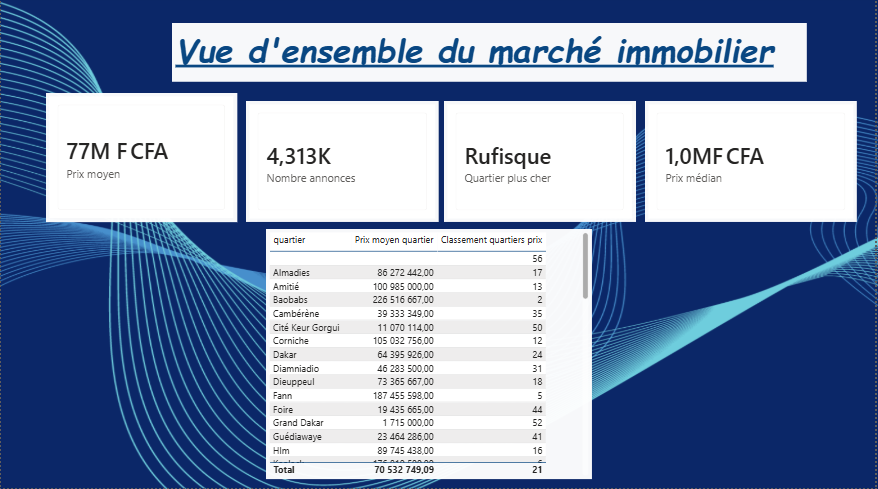

The page's visual inventory and layout, read from the dashboard file:
{"tool":"powerbi","page":{"name":"Vue d'ensemble","canvas":[1280,720],"ordinal":1},"visuals":[{"type":"cardVisual","fields":{"Data":["expat_dakar_pieces_traite.Prix moyen"]},"box":[65.9,142,279.5,188.8],"z":0},{"type":"cardVisual","fields":{"Data":["expat_dakar_pieces_traite.Prix médian"]},"box":[942.4,153.7,310.2,177.1],"z":1000},{"type":"cardVisual","fields":{"Data":["expat_dakar_pieces_traite.Nombre annonces"]},"box":[358.5,153.7,282.4,177.1],"z":2000},{"type":"cardVisual","fields":{"Data":["expat_dakar_pieces_traite.Quartier plus cher"]},"box":[648.3,153.7,281,177.1],"z":3000},{"type":"tableEx","fields":{"Values":["statistiques_par_quartier.quartier","expat_dakar_pieces_traite.Prix moyen quartier","expat_dakar_pieces_traite.Classement quartiers prix"]},"box":[387.8,341,477.1,365.9],"z":4000},{"type":"textbox","box":[250.2,39.5,929.3,86.3],"z":5000}]}

Visuals, with their boxes in screenshot pixels (x1, y1, x2, y2), scaled from the page's 1280x720 canvas onto the 878x489 screenshot:
cardVisual - expat_dakar_pieces_traite.Prix moyen: [45,96,237,225]
cardVisual - expat_dakar_pieces_traite.Prix médian: [646,104,859,225]
cardVisual - expat_dakar_pieces_traite.Nombre annonces: [246,104,440,225]
cardVisual - expat_dakar_pieces_traite.Quartier plus cher: [445,104,637,225]
tableEx - statistiques_par_quartier.quartier x expat_dakar_pieces_traite.Prix moyen quartier: [266,232,593,480]
textbox: [172,27,809,85]
